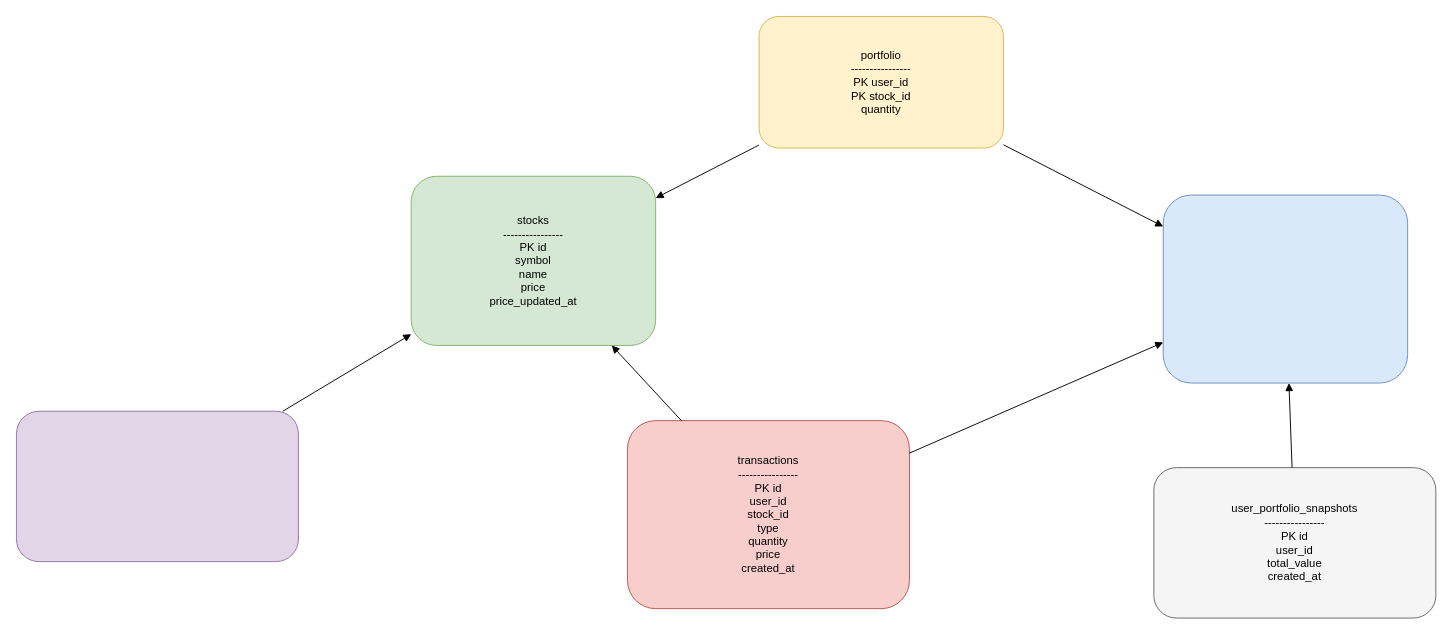
This 1452x635 diagram has some shape labels left out. The centre of each missing label's shape, as x and y in pixels:
"stock_price_history ---------------- PK id stock_id price created_at" goes at (157,486).
"users ---------------- PK id username email password_hash cash created_at" goes at (1285,288).
